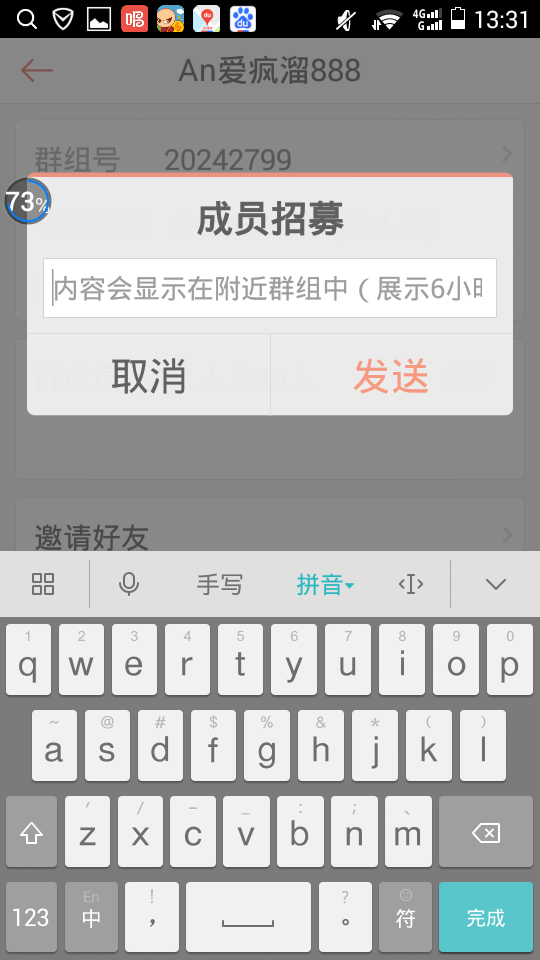alert: (18, 160, 529, 437)
